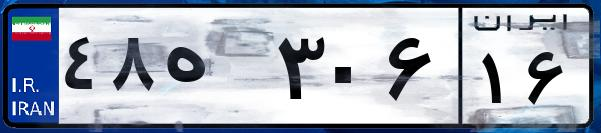0: (330, 28, 385, 110)
1: (475, 38, 525, 113)
3: (270, 28, 330, 110)
4: (57, 26, 110, 100)
6: (385, 28, 445, 110), (525, 38, 570, 115)
8: (110, 28, 158, 98)
ه: (158, 20, 270, 120)
